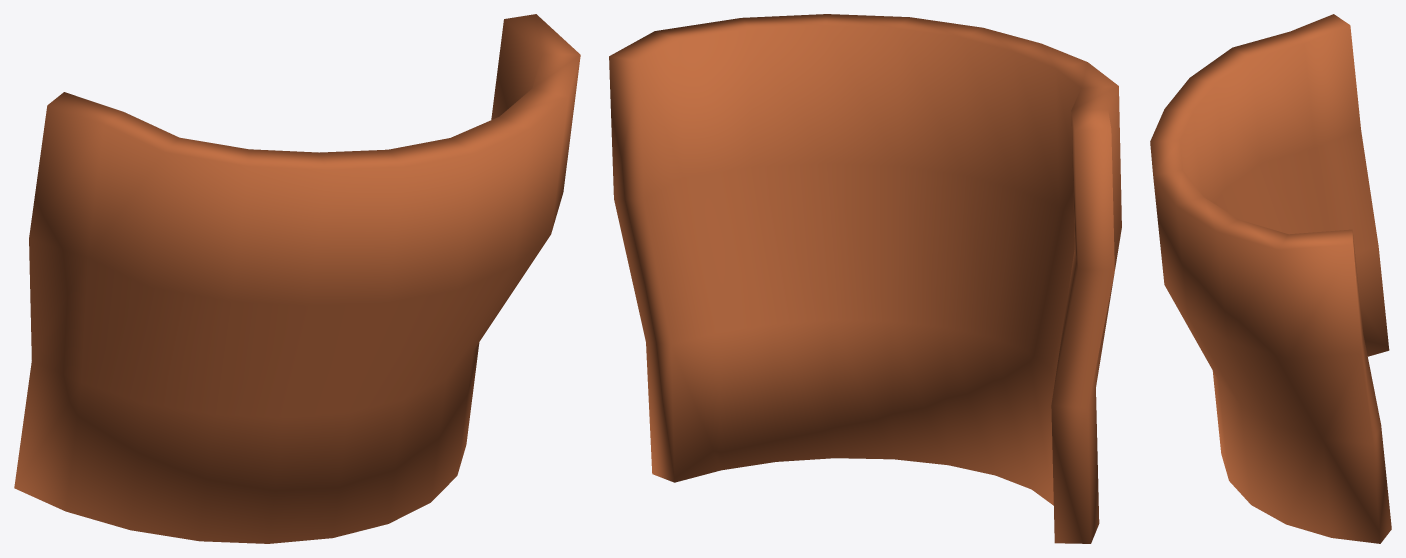
Rendered from Armor_Greave_L.fbx.
3 renders of one model, left to right at view 1: azimuth 30°, elevation 25°; view 2: azimuth 150°, elevation 25°; view 3: azimuth 270°, elevation 25°, orthographic. The views are drawn at different scales.
Parts seen in each view (by area): view 1: Armor_Greave_L; view 2: Armor_Greave_L; view 3: Armor_Greave_L.
Boxes of the visible parts, box(x1,y1,x2,y2) form: Armor_Greave_L: box(14, 14, 580, 543); Armor_Greave_L: box(609, 14, 1121, 543); Armor_Greave_L: box(1150, 14, 1391, 543).
Size of the model in its own units: 0.0949 by 0.0784 by 0.0478.
